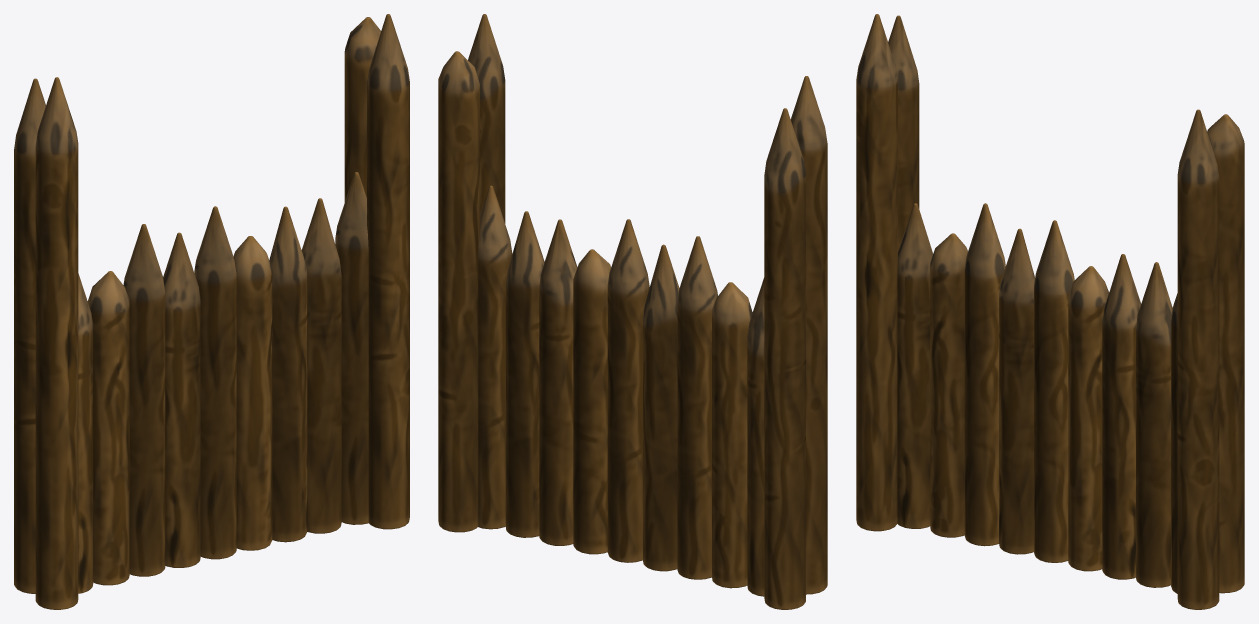
Rendered from Spike_Wall_b01.fbx.
3 renders of one model, left to right at view 1: azimuth 30°, elevation 25°; view 2: azimuth 150°, elevation 25°; view 3: azimuth 330°, elevation 25°, orthographic. The views are drawn at different scales.
Parts seen in each view (by area): view 1: Spike_Wall_b01; view 2: Spike_Wall_b01; view 3: Spike_Wall_b01.
Boxes of the visible parts, x1=… form: Spike_Wall_b01: x1=14, y1=14, x2=409, y2=609; Spike_Wall_b01: x1=438, y1=14, x2=827, y2=609; Spike_Wall_b01: x1=856, y1=14, x2=1244, y2=609.
Size of the model in its own units: 2.73 by 3.7 by 0.585.
